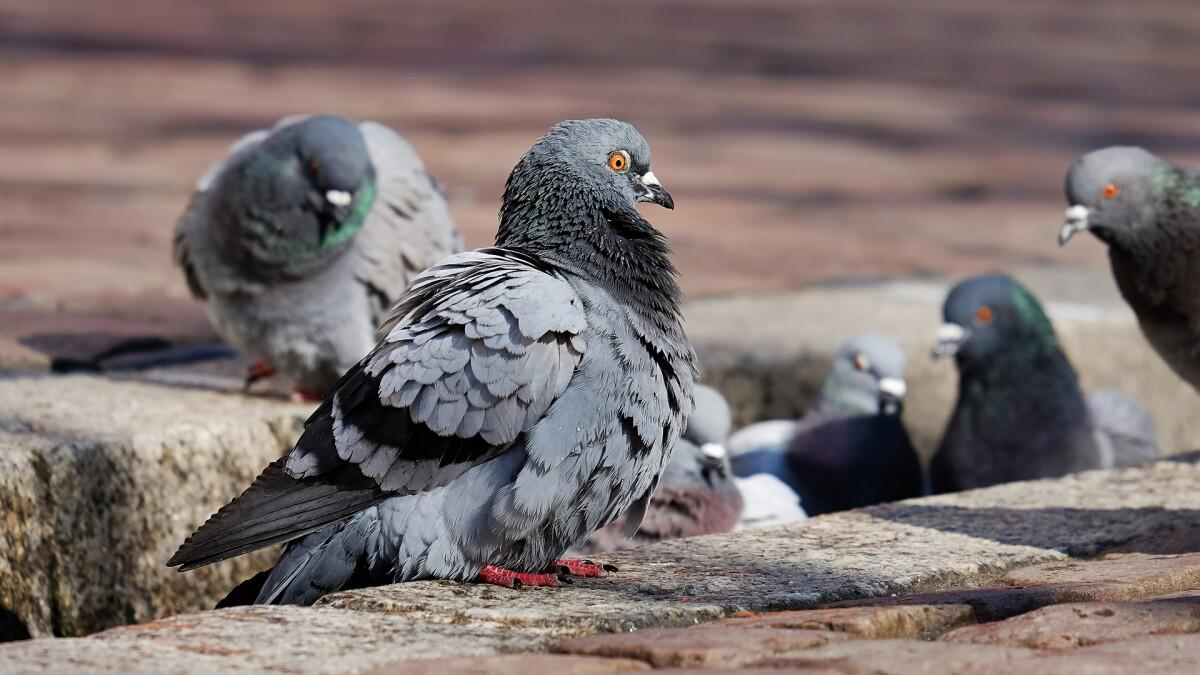Flying Rat: (286, 86, 710, 636), (174, 66, 471, 370), (925, 269, 1133, 493), (1056, 145, 1200, 366), (777, 303, 918, 510)
